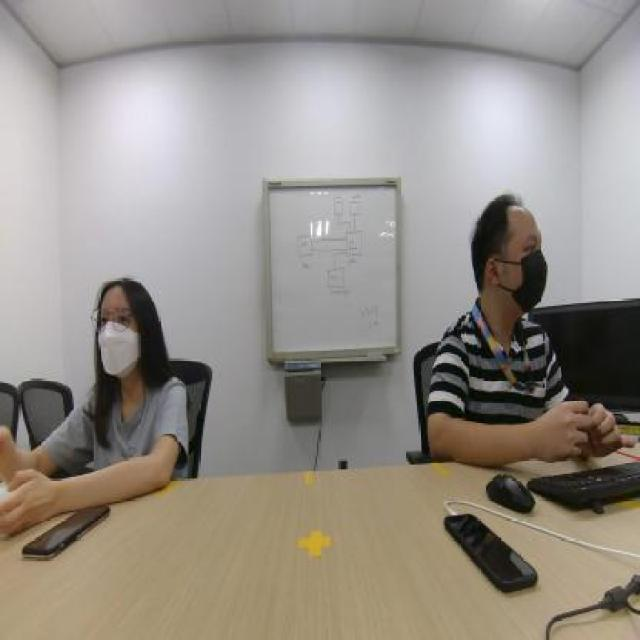Person: (420, 188, 582, 450), (67, 245, 193, 488)
